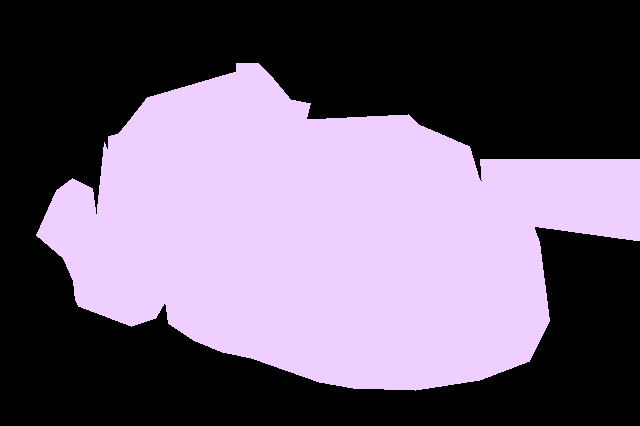Train: (36, 63, 549, 391), (480, 159, 640, 241)
